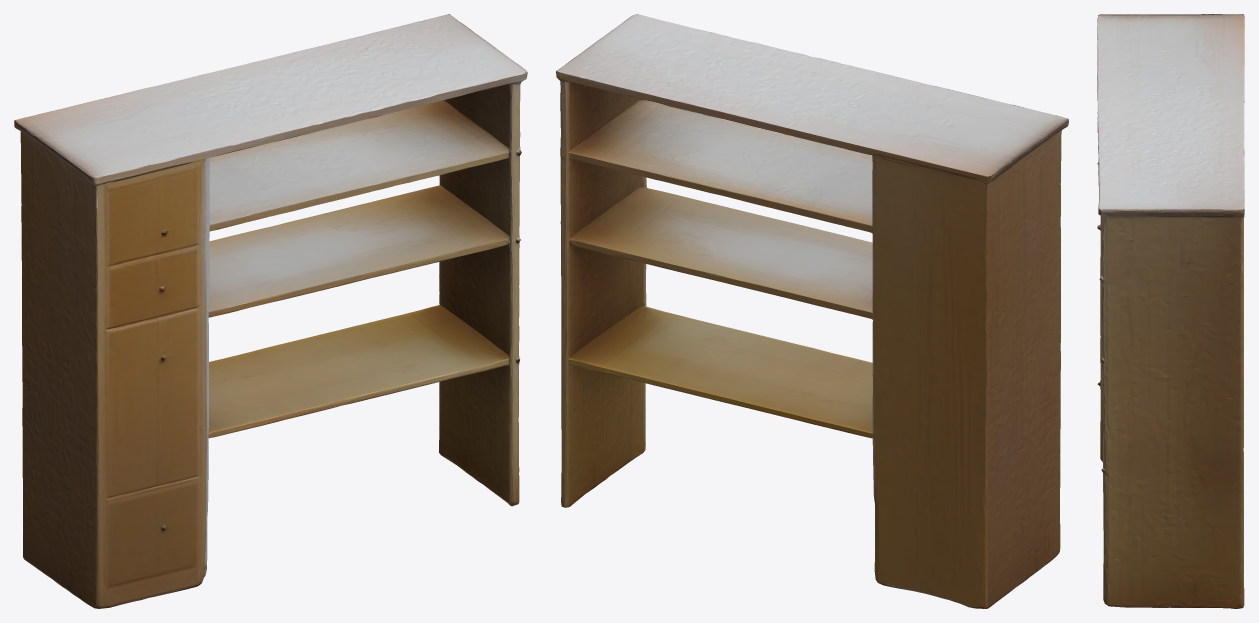
Rendered from ast_8a6c621c6f5f.glb.
The picture shows the model from 3 angles, left to right: view 1: azimuth 30°, elevation 25°; view 2: azimuth 150°, elevation 25°; view 3: azimuth 270°, elevation 25°; orthographic projection. The views are drawn at different scales.
Parts seen in each view (by area): view 1: geometry_0; view 2: geometry_0; view 3: geometry_0.
Boxes of the visible parts, x1,y1,x2,y2 form: geometry_0: [14, 14, 527, 608]; geometry_0: [556, 14, 1068, 608]; geometry_0: [1097, 14, 1244, 608].
Size of the model in its own units: 1 by 0.9603 by 0.3187.
1 material, 1 textured.
